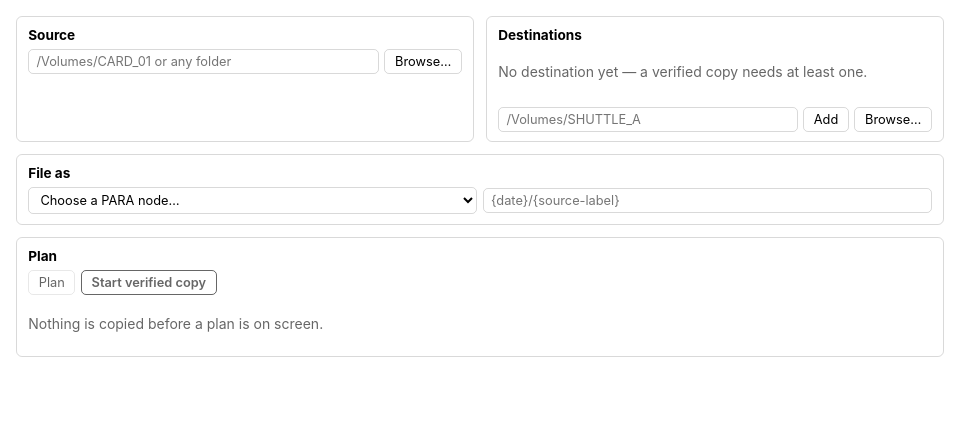
Test case: a refused plan shows the command's whole message chain and its notices
Click the button with aria-label "Browse for source". click: (423, 62)
box: [384,49,462,74]
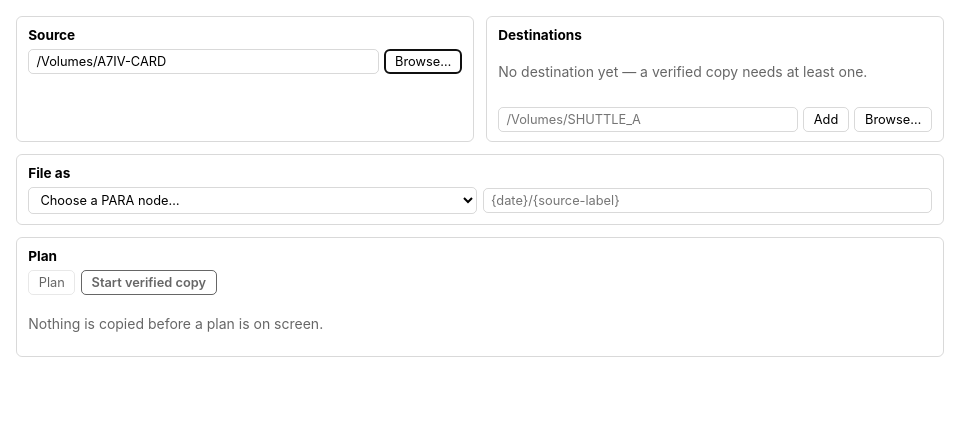
Now the field named "Source path" holds "/Volumes/A7IV-CARD", box [28,49,379,74]
Select "project/client-x" in the dropdown named "PARA node". click: (253, 201)
box: [28,187,477,214]
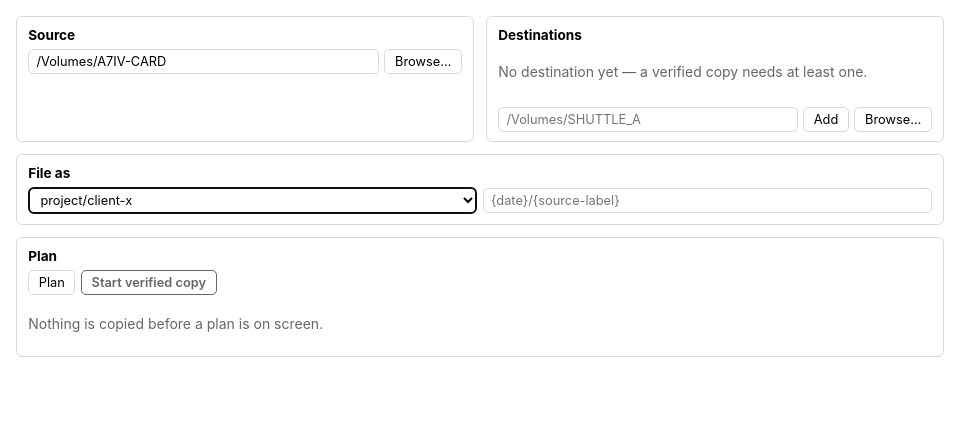
Click the button "Plan". click: (52, 282)
box: [28,270,75,295]
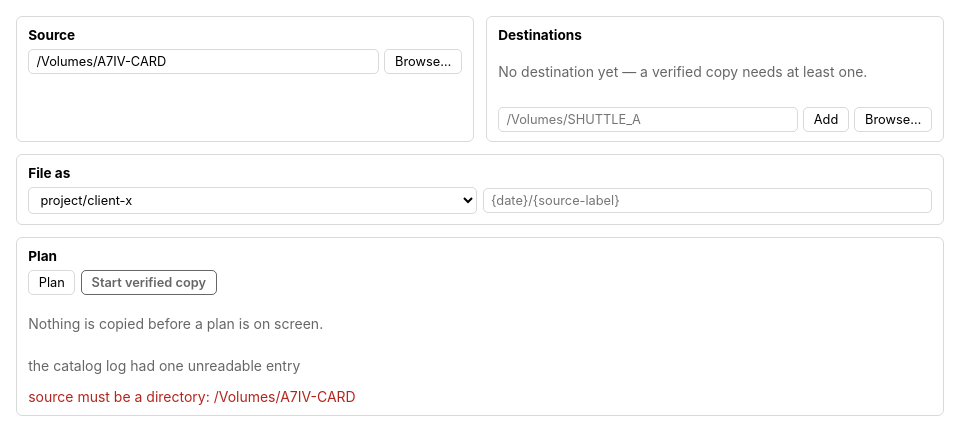
Now the message reads "source must be a directory: /Volumes/A7IV-CARD", box [28,388,356,405]
Now the text "the catalog log had one unreadable entry" is shown, box [28,357,300,374]
